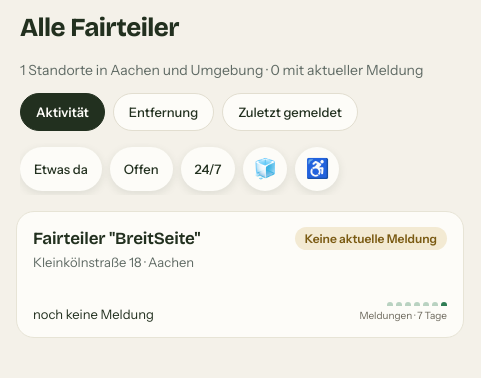
Scenario: ListeView › falls back to activity with a hint when geolocation is denied
Click the button with test id "sort-distance" at {"x": 163, "y": 112}, box x1=113 y1=93 x2=214 y2=131
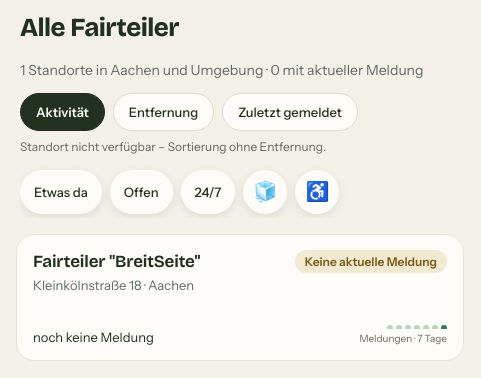
Check: the text with test id "geo-hint" shows "Standort nicht verfügbar", box x1=20 y1=139 x2=326 y2=154
